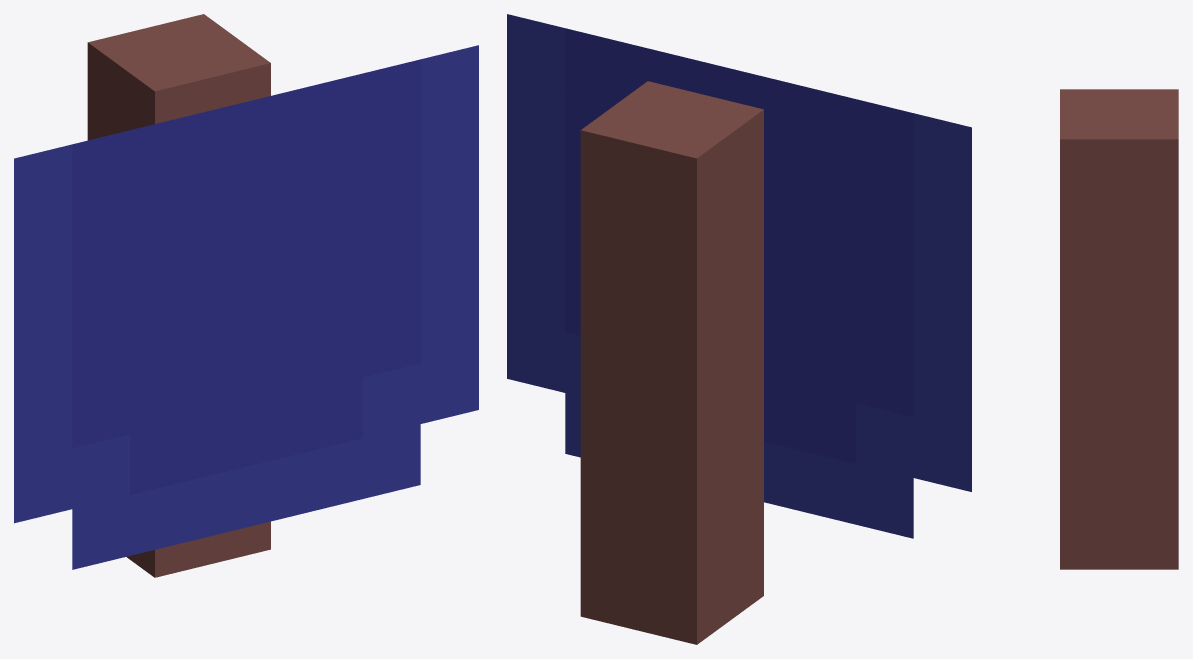
File: Blue Banner.glb
3 views of the same model, side by side, from view 1: azimuth 30°, elevation 25°; view 2: azimuth 150°, elevation 25°; view 3: azimuth 270°, elevation 25° (orthographic). The views are drawn at different scales.
Parts seen in each view (by area): view 1: cube; view 2: cube; view 3: cube.
Boxes of the visible parts, bbox=[...] form: cube: bbox=[14, 14, 478, 577]; cube: bbox=[507, 14, 971, 644]; cube: bbox=[1060, 89, 1178, 569].
Size of the model in its own units: 1 by 1 by 0.3751.
1 material, 1 textured.
